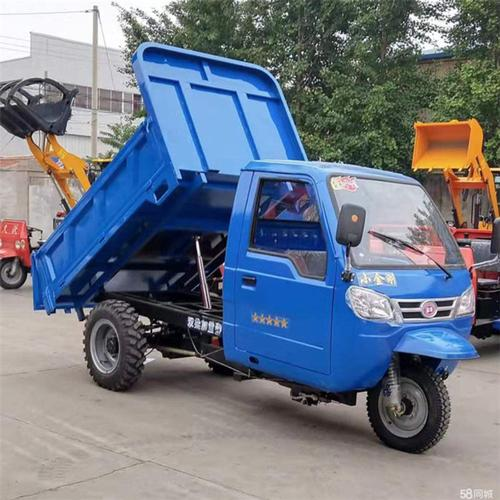empty: (8, 26, 484, 459)
